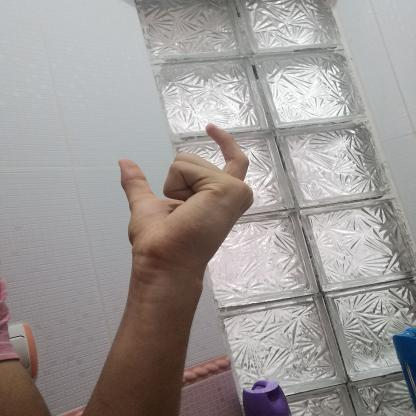NOON: (100, 115, 273, 280)
